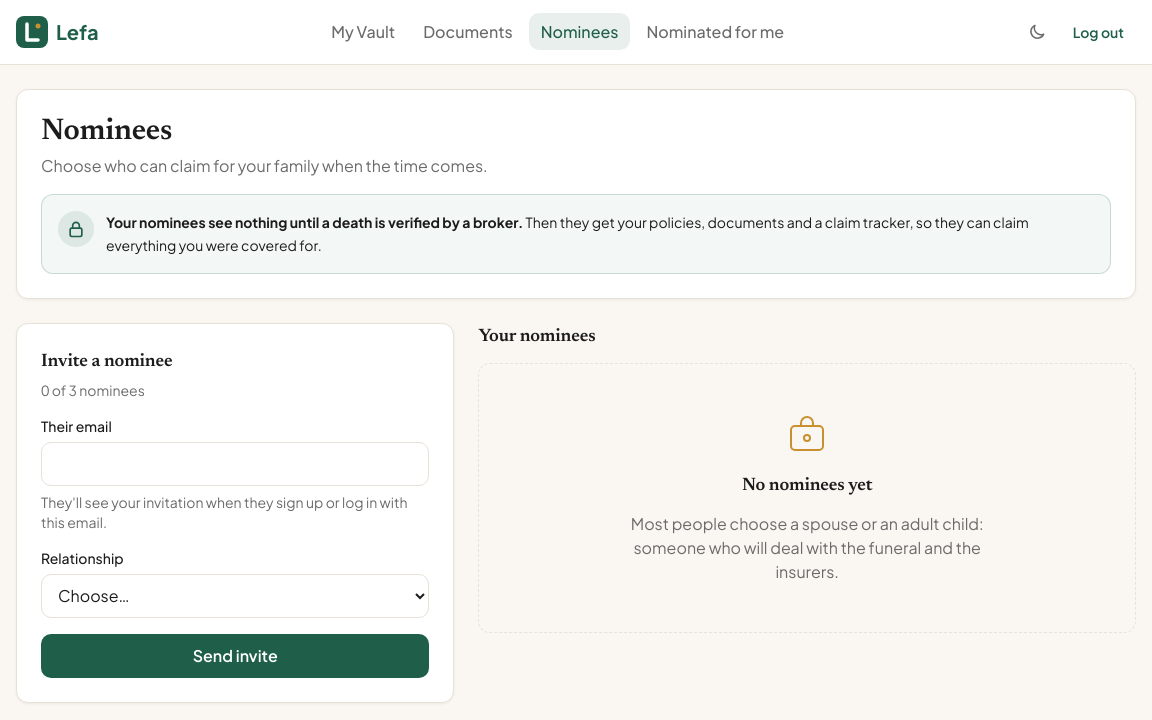
Test: Nominees (S7) › invites someone and offers a WhatsApp message to let them know
Type "Lerato@Lefa.test" into the field labelled "Their email" at (235, 464), box [41,442,429,486]
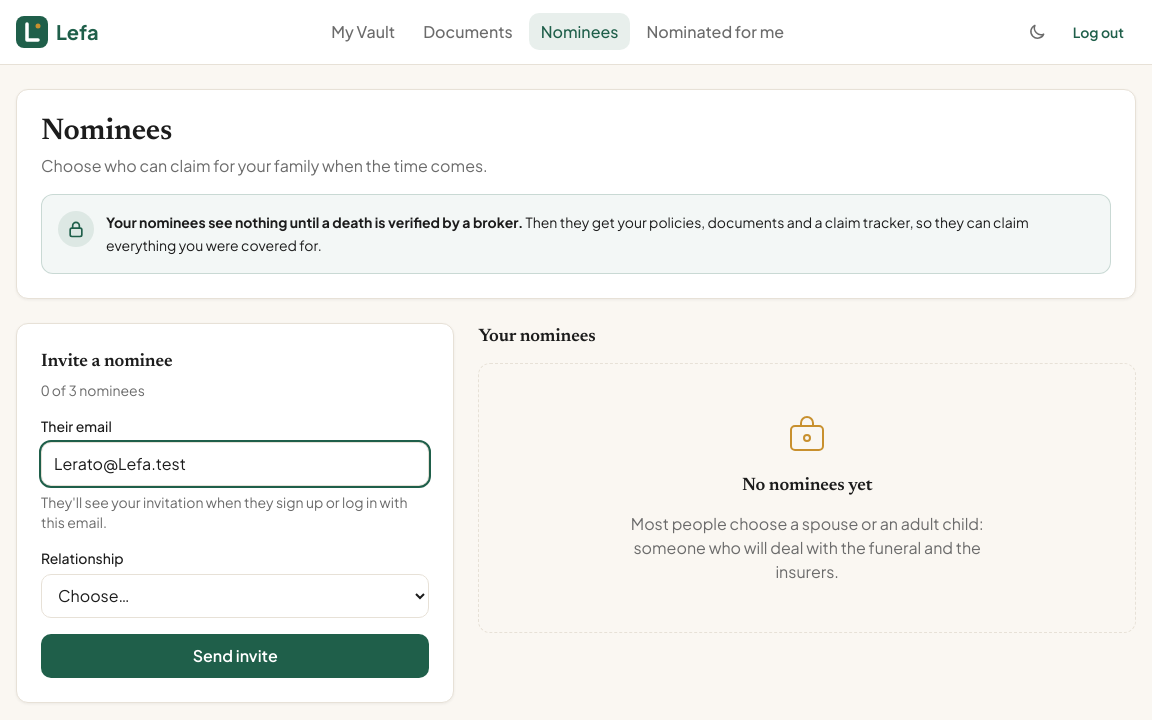
Select "Child" in the dropdown labelled "Relationship" at (235, 596), box [41,574,429,618]
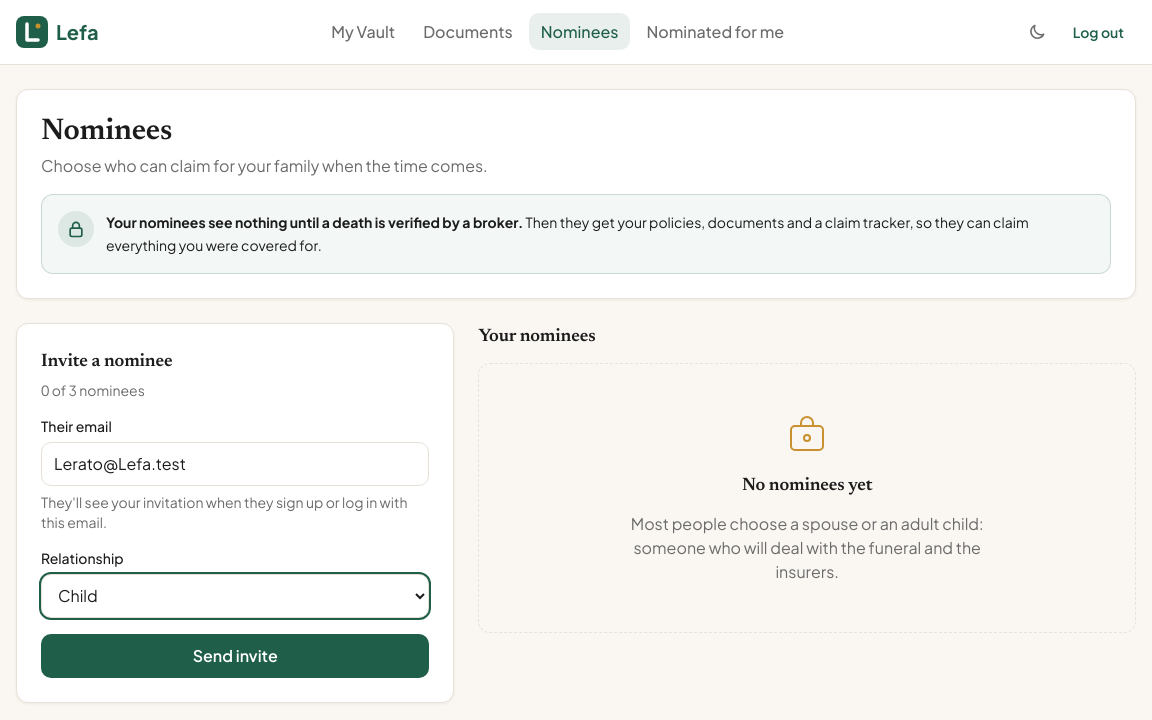
Click the button "Send invite" at (235, 656), box [41,634,429,678]
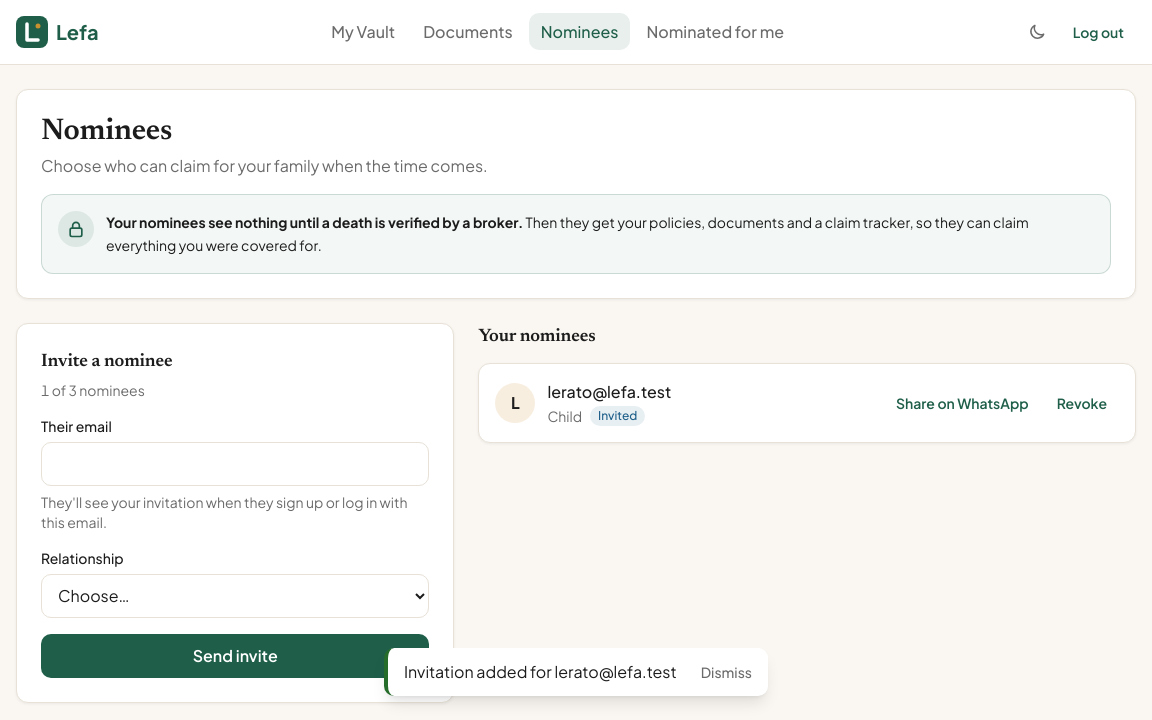
Check: the text "Child" is shown, box [547,406,582,426]
Check: the message shows "Invitation added for lerato@lefa.test", box [404,661,677,682]
Check: the text "Invited" is shown, box [590,406,645,426]
